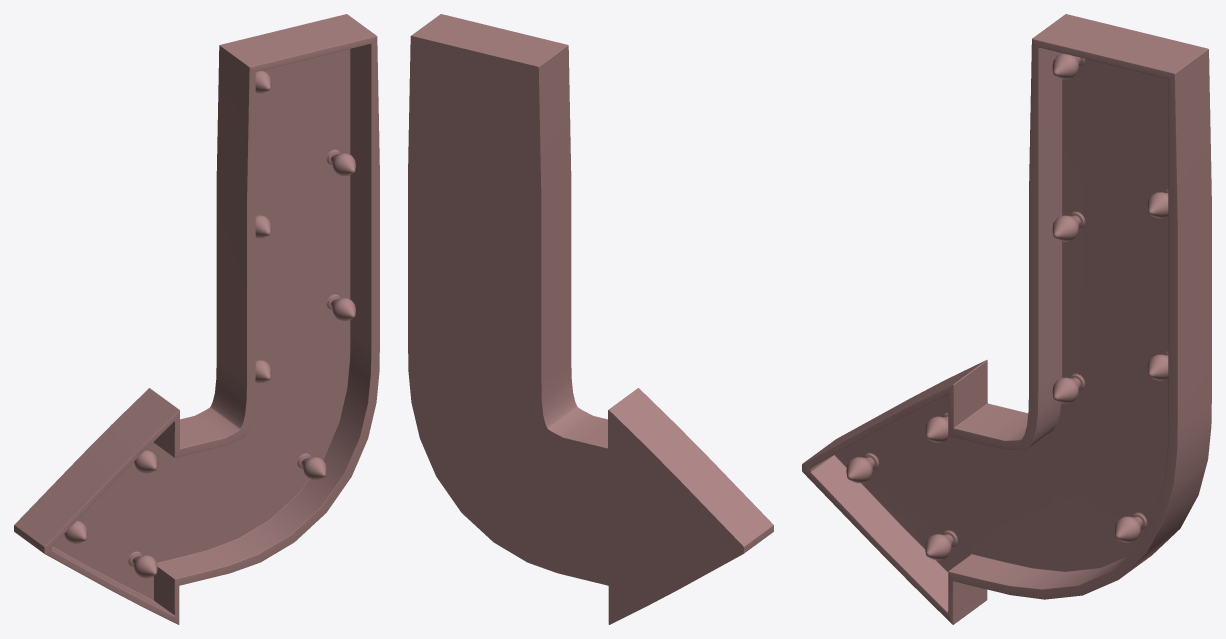
Rendered from CIRCUS SIGN.fbx.
3 views of the same model, side by side, from view 1: azimuth 30°, elevation 25°; view 2: azimuth 150°, elevation 25°; view 3: azimuth 330°, elevation 25° (orthographic). The views are drawn at different scales.
Visible parts, largest first — view 1: CIRCUS_SIGN; view 2: CIRCUS_SIGN; view 3: CIRCUS_SIGN.
Part boxes in pixels (left/top/right/bottom): CIRCUS_SIGN: left=14, top=14, right=379, bottom=624; CIRCUS_SIGN: left=408, top=14, right=773, bottom=624; CIRCUS_SIGN: left=802, top=14, right=1211, bottom=624.
Size of the model in its own units: 0.0939 by 0.1444 by 0.0146.
